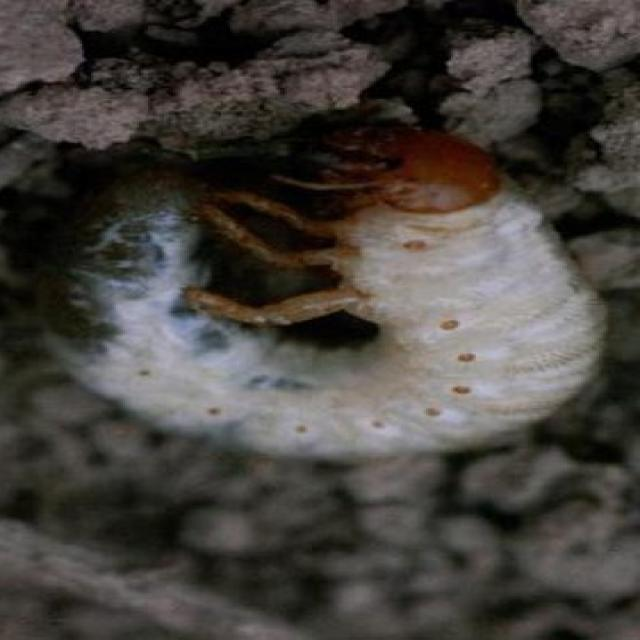grub: (35, 139, 614, 451)
